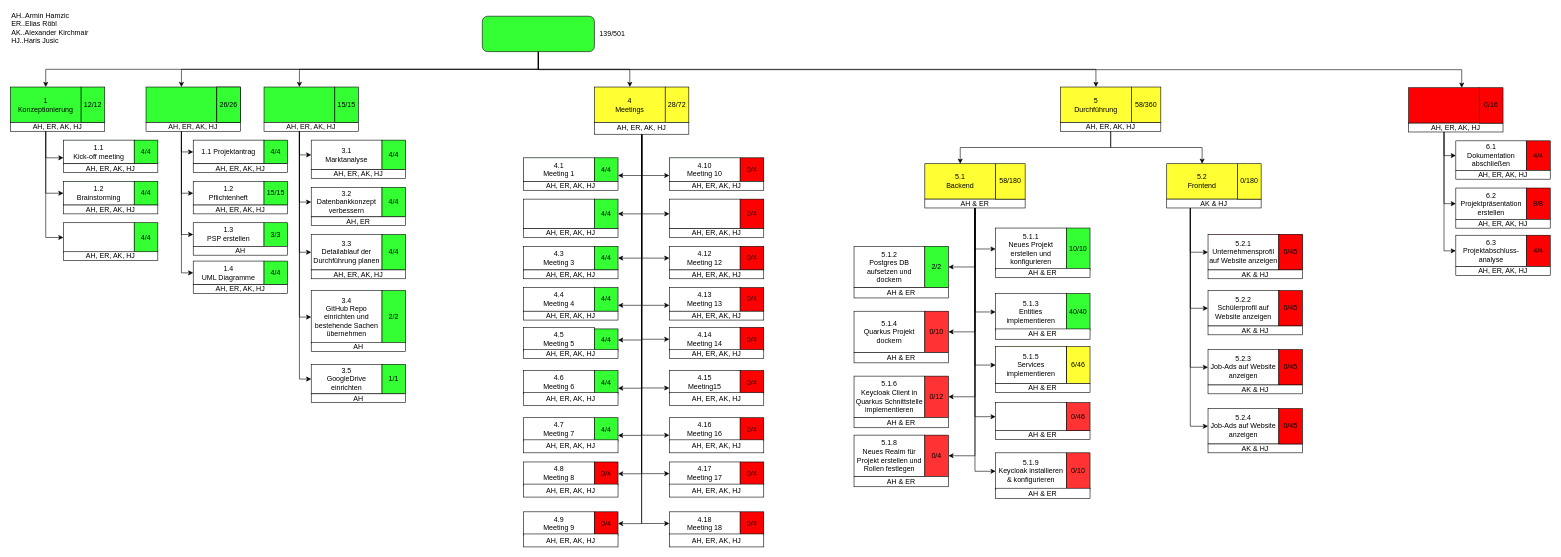
The diagram is 1561 pixels wide and 557 high, and some of its shapes have lost their labels. Here are the shapes that lost their labels. From the top down, the centre of each, then its label:
At [538,34]: "Prakticom".
At [181,104]: "2 Projektmanagement".
At [299,104]: "3 Vorbereitung".
At [1443,105]: "6 Abschluss".
At [558,214]: "4.2 Meeting 2".
At [704,214]: "4.11 Meeting 11".
At [98,237]: "1.4 Mockups bearbeiten".
At [1030,416]: "5.1.7 Endpoints implementieren".
